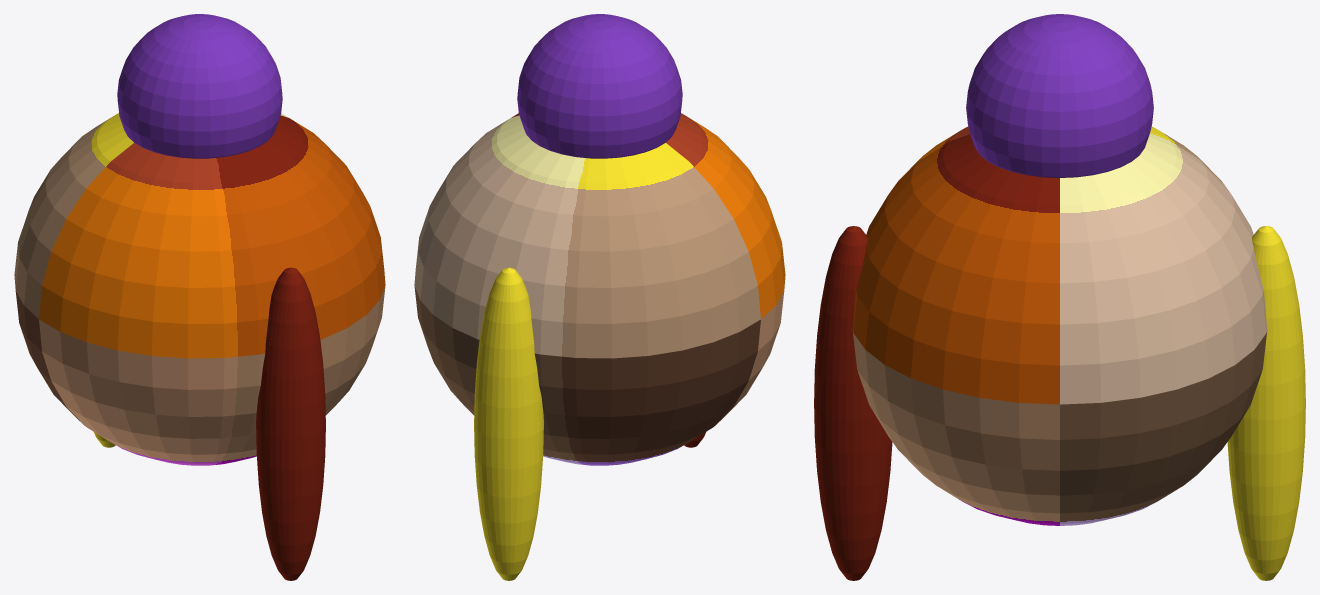
File: bubbo.glb
The picture shows the model from 3 angles, left to right: view 1: azimuth 30°, elevation 25°; view 2: azimuth 150°, elevation 25°; view 3: azimuth 270°, elevation 25°; orthographic projection. The views are drawn at different scales.
Parts seen in each view (by area): view 1: Sphere, Sphere.001, Sphere.003; view 2: Sphere, Sphere.001, Sphere.002; view 3: Sphere, Sphere.001, Sphere.002, Sphere.003.
Part boxes in pixels (<box>): Sphere: <box>14,113,385,465</box>; Sphere.001: <box>117,14,282,158</box>; Sphere.003: <box>256,267,325,580</box>; Sphere: <box>414,113,785,465</box>; Sphere.001: <box>517,14,682,158</box>; Sphere.002: <box>474,267,543,580</box>; Sphere: <box>852,126,1267,525</box>; Sphere.001: <box>966,14,1153,177</box>; Sphere.002: <box>1227,226,1305,580</box>; Sphere.003: <box>814,226,892,580</box>.
Size of the model in its own units: 3.33 by 4.87 by 3.89.
Materials: 1 (1 with a texture image).
